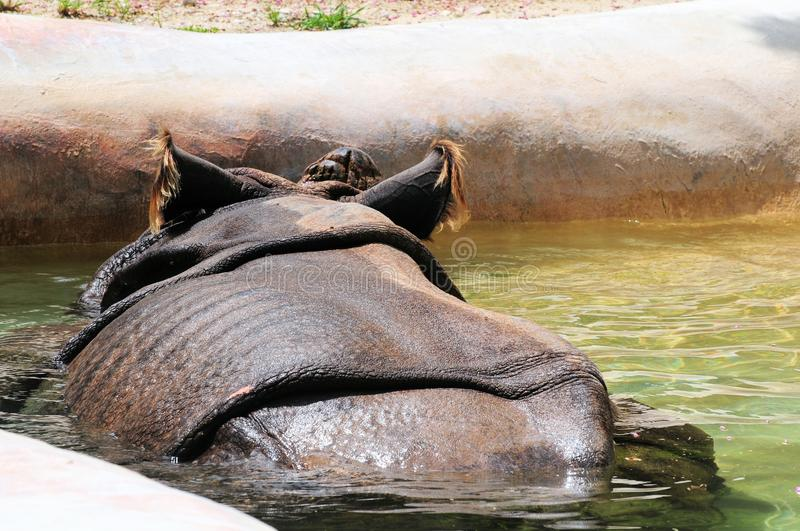rhinoceros: (43, 128, 616, 490)
